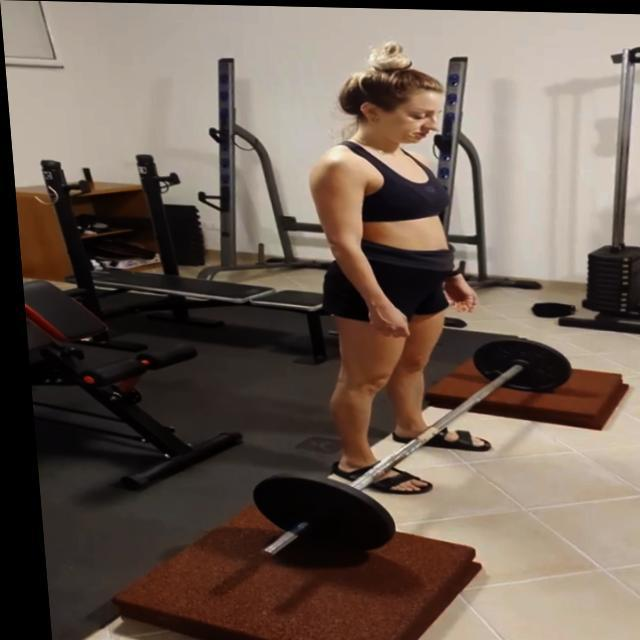barbell: (238, 466, 395, 571)
